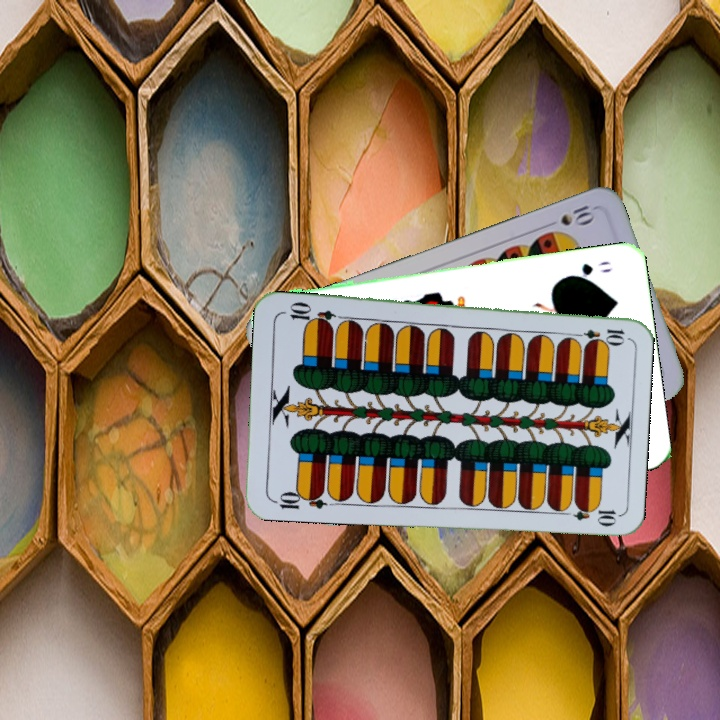E10: (269, 486, 328, 512), (568, 325, 627, 344)
GO: (562, 257, 615, 282)
S10: (540, 201, 598, 230)
